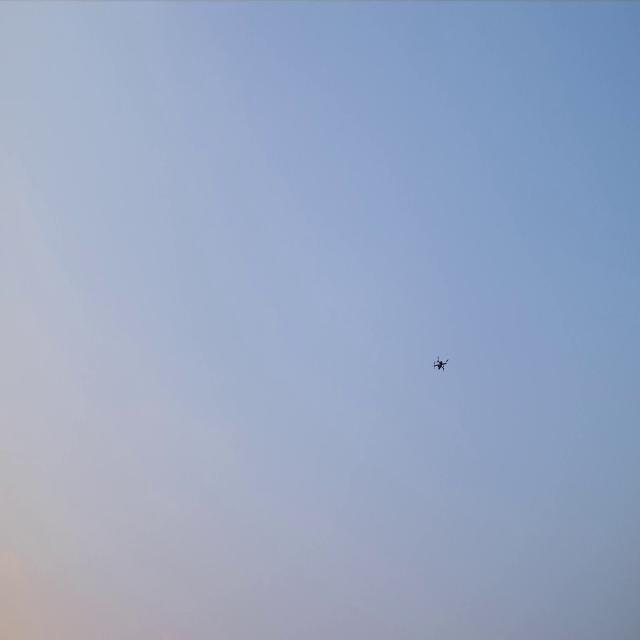UAV: (434, 358, 447, 369)
